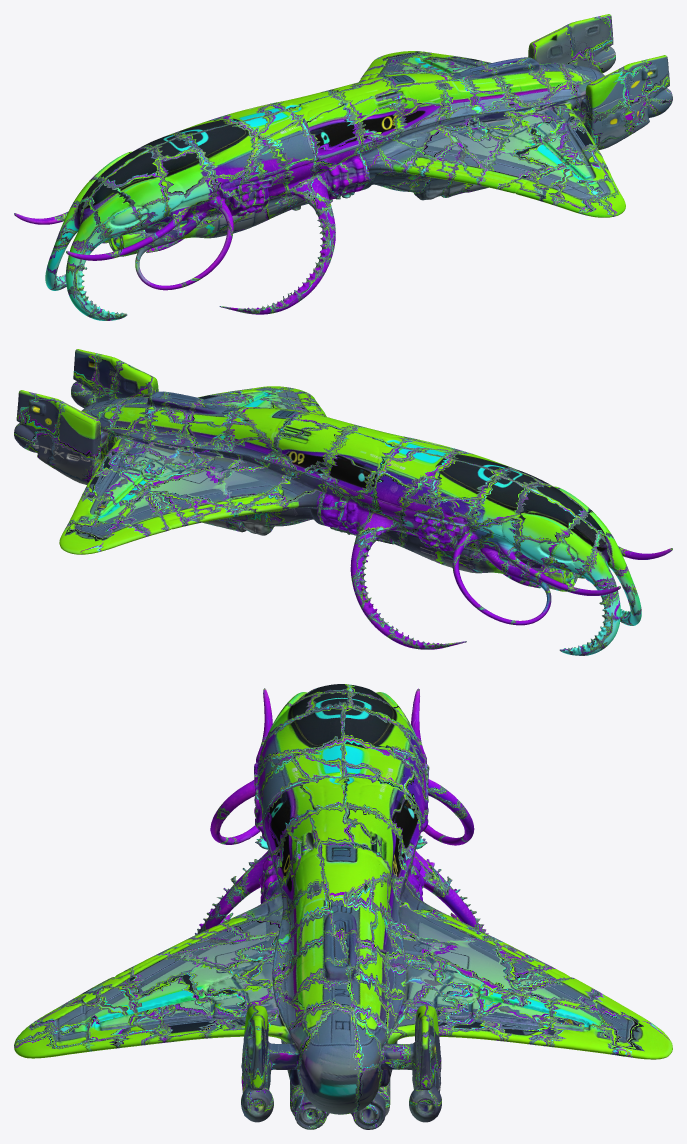
Rendered from Interceptor_Needle_lod0.glb.
3 renders of one model, top to bottom at view 1: azimuth 30°, elevation 25°; view 2: azimuth 150°, elevation 25°; view 3: azimuth 270°, elevation 25°, orthographic. The views are drawn at different scales.
Parts seen in each view (by area): view 1: mesh; view 2: mesh; view 3: mesh.
Part boxes in pixels (<box>): mesh: <box>14,14,672,320</box>; mesh: <box>14,349,672,655</box>; mesh: <box>14,684,672,1129</box>.
Size of the model in its own units: 1.9 by 0.4754 by 1.22.
Materials: 1 (1 with a texture image).
